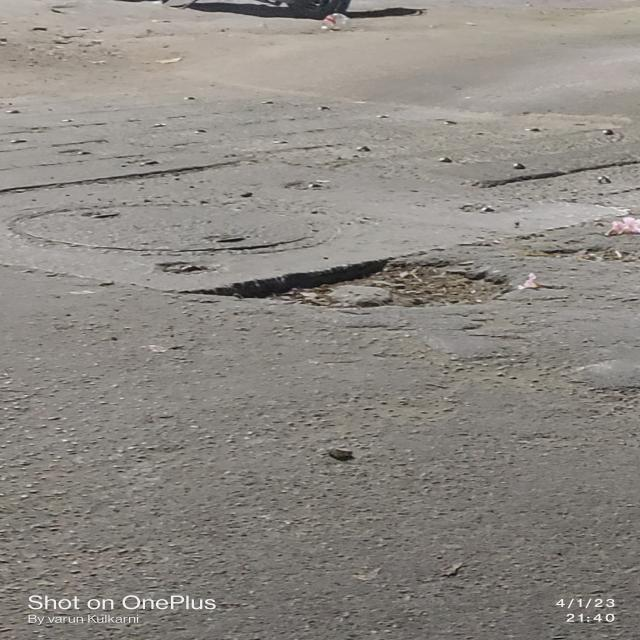potholes: (190, 274, 534, 318), (5, 173, 216, 194), (549, 242, 621, 270)
